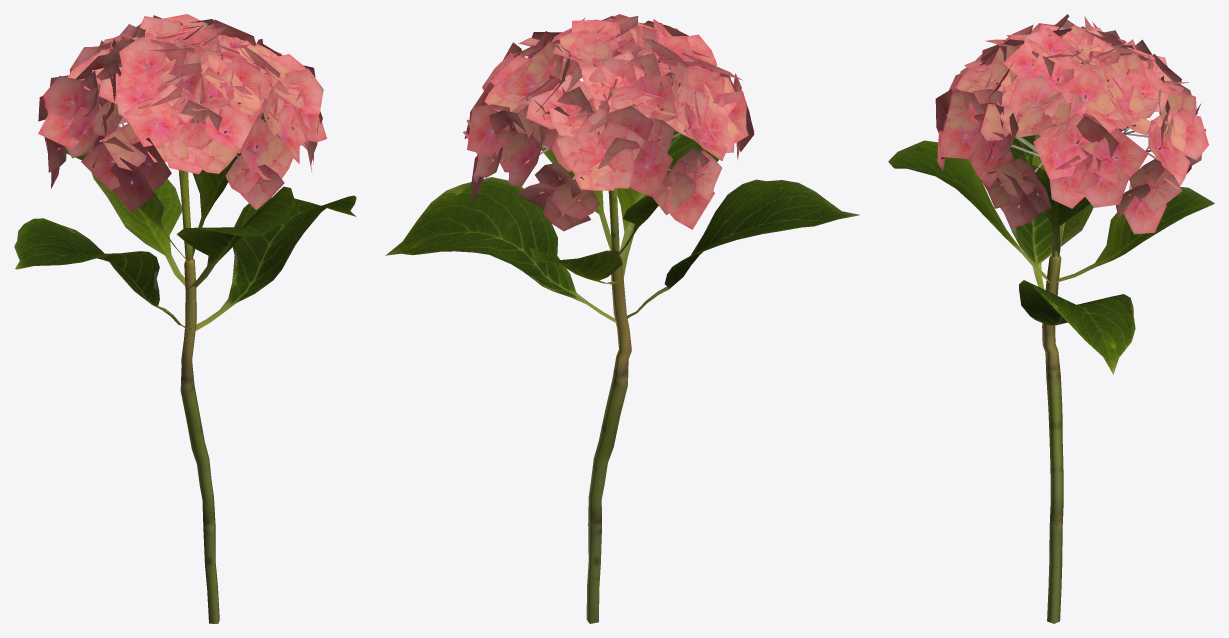
File: Hydrangea_OG_short_red.glb
3 views of the same model, side by side, from view 1: azimuth 30°, elevation 25°; view 2: azimuth 150°, elevation 25°; view 3: azimuth 270°, elevation 25° (orthographic). The views are drawn at different scales.
Parts seen in each view (by area): view 1: Hydrangea; view 2: Hydrangea; view 3: Hydrangea.
Boxes of the visible parts, left/top/right/bottom form: Hydrangea: left=14, top=14, right=356, bottom=623; Hydrangea: left=385, top=14, right=859, bottom=623; Hydrangea: left=888, top=14, right=1214, bottom=623.
Bounding box in the file's own units: 1.38 × 1.94 × 1.
1 material, 1 textured.
